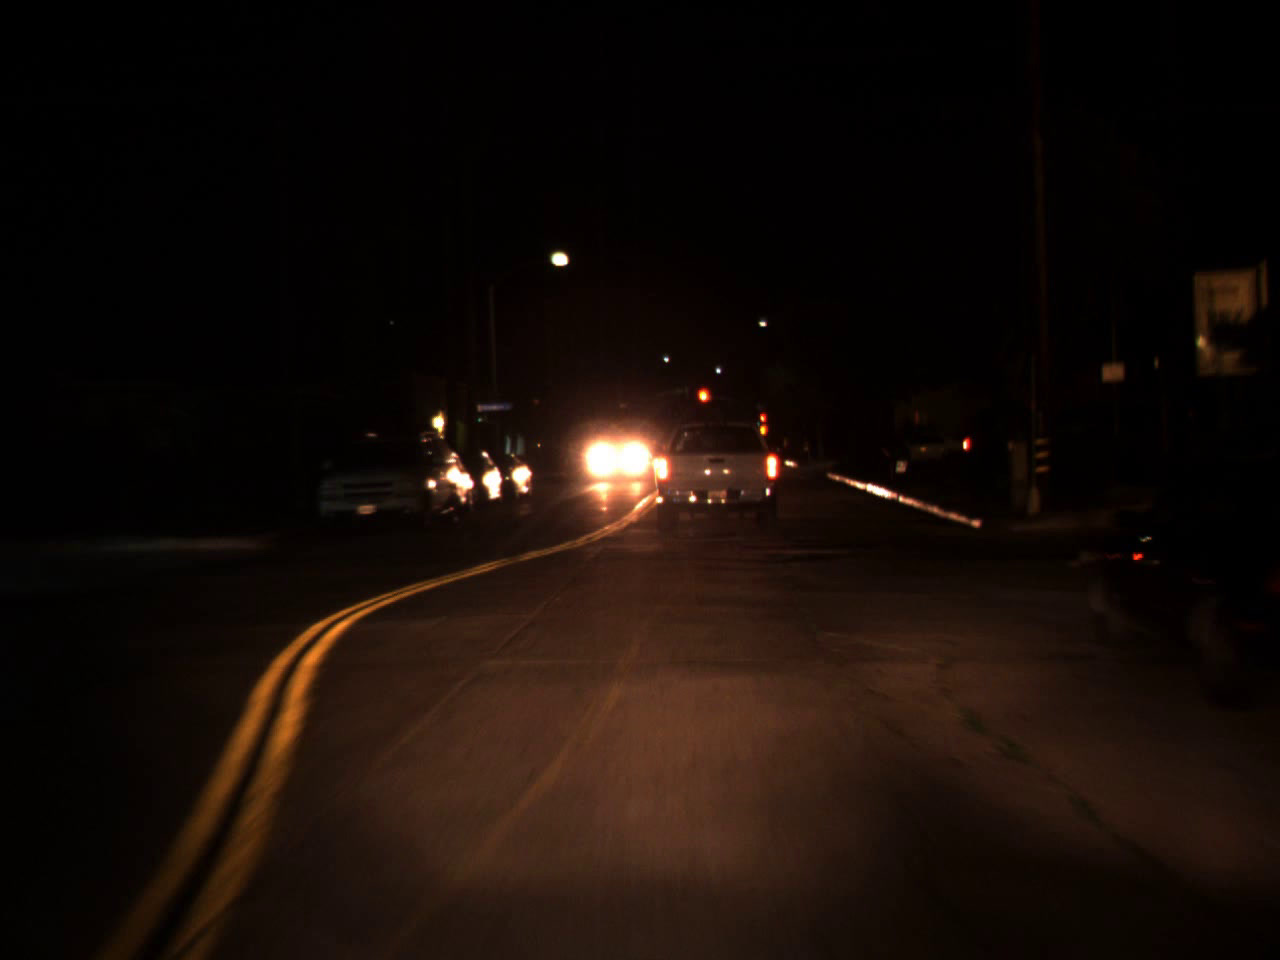stop: (696, 387, 711, 419), (761, 412, 767, 433)
